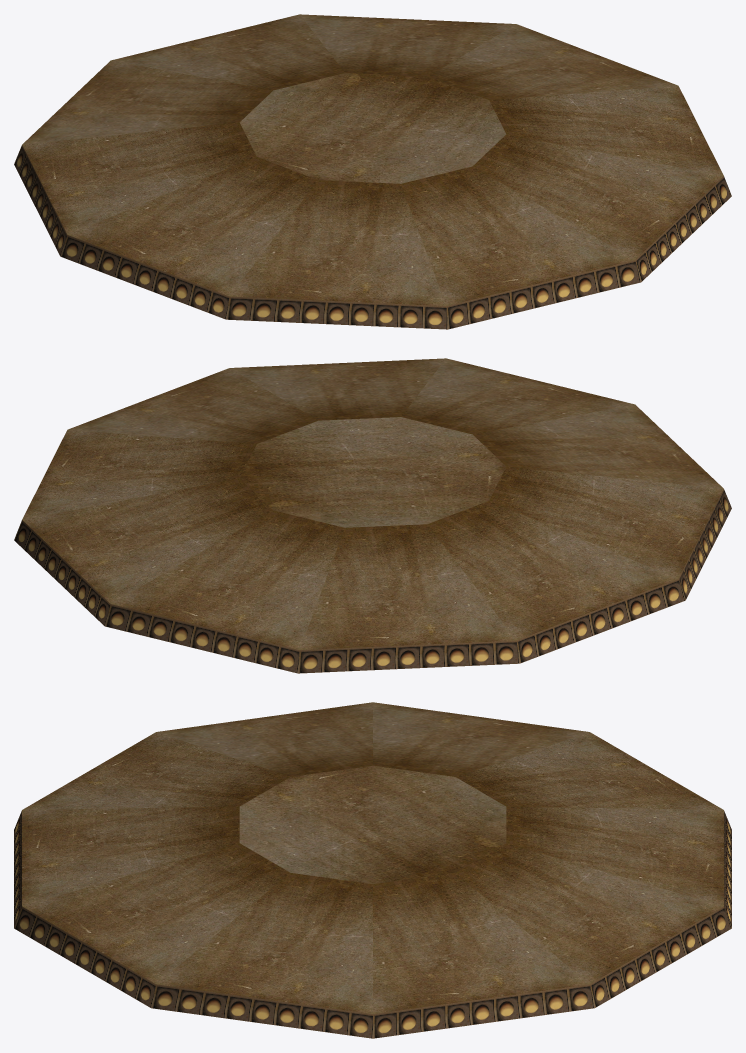
Rendered from thm_tato_luke_farm_garage_l1.fbx.
3 renders of one model, top to bottom at view 1: azimuth 30°, elevation 25°; view 2: azimuth 150°, elevation 25°; view 3: azimuth 270°, elevation 25°, orthographic. The views are drawn at different scales.
Parts seen in each view (by area): view 1: mesh_node; view 2: mesh_node; view 3: mesh_node.
Boxes of the visible parts, <box> form: mesh_node: <box>14,14,731,329</box>; mesh_node: <box>14,358,731,673</box>; mesh_node: <box>14,702,731,1038</box>.
Size of the model in its own units: 15.9 by 1.26 by 15.12.
